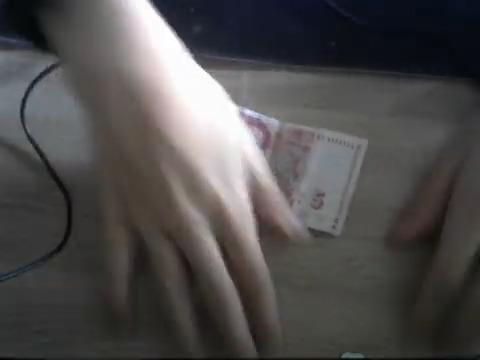5leva: (240, 108, 369, 237)
